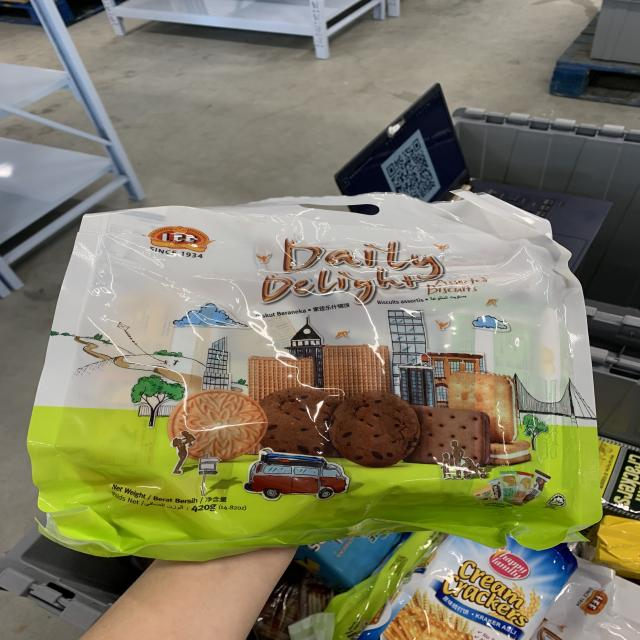object_name: (66, 211, 580, 538)
